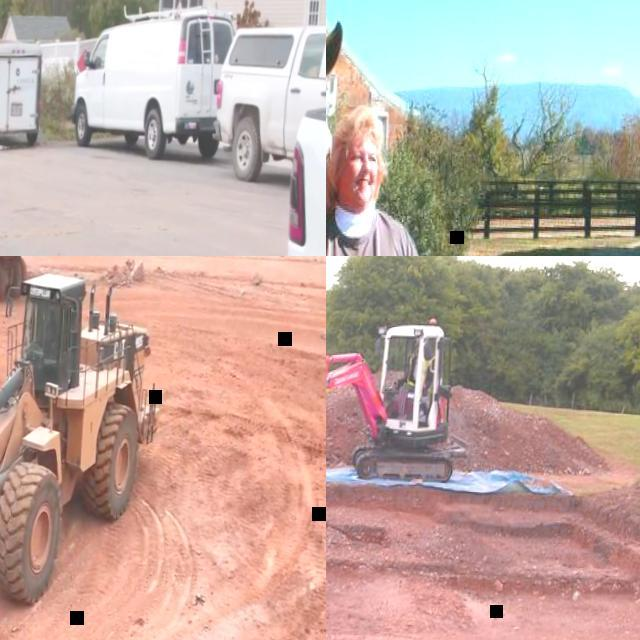helmet: (414, 336, 428, 344)
vest: (408, 350, 432, 388)
